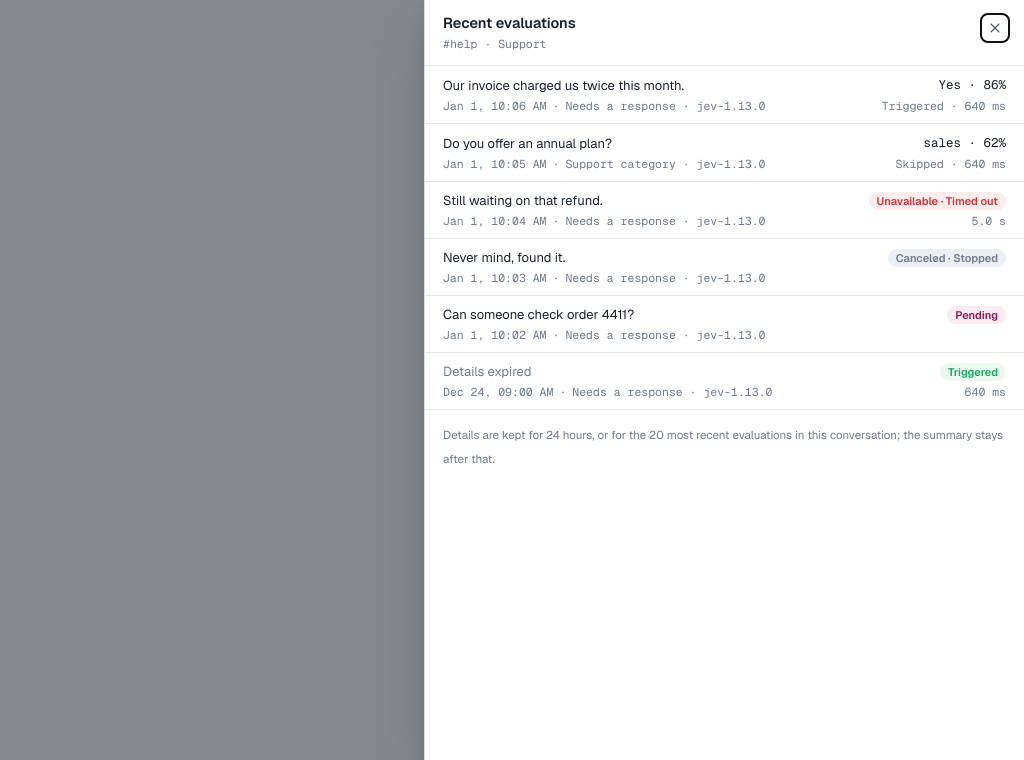
Test case: DecisionEvaluationsDrawer › switches the model result and instructions to the chain step picked above it
The image size is (1024, 760).
Click the button that starts with "Our invoice charged us twice this month.": (564, 86) [425,66,1023,123]
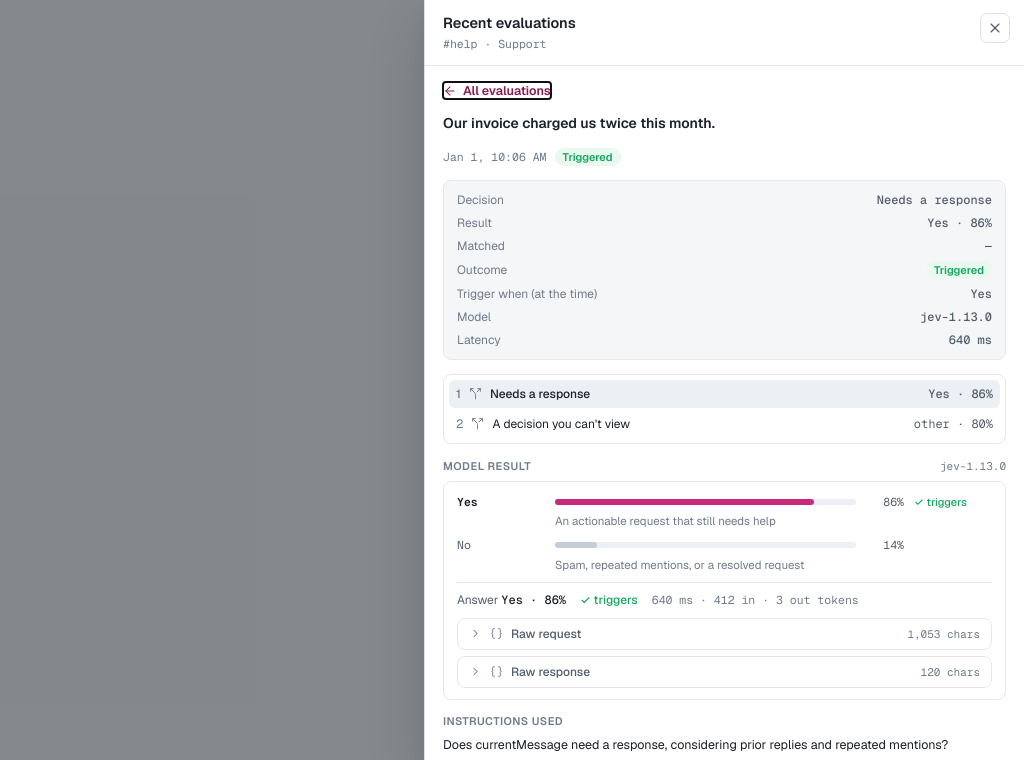
Now the button "2 A decision you can't view other · 80%" is shown
Now the element with test id "model-result" shows "86%", box [883,494,904,509]
Click the button "2 A decision you can't view other · 80%": (561, 424) [449,410,1000,438]
(page scrolled)
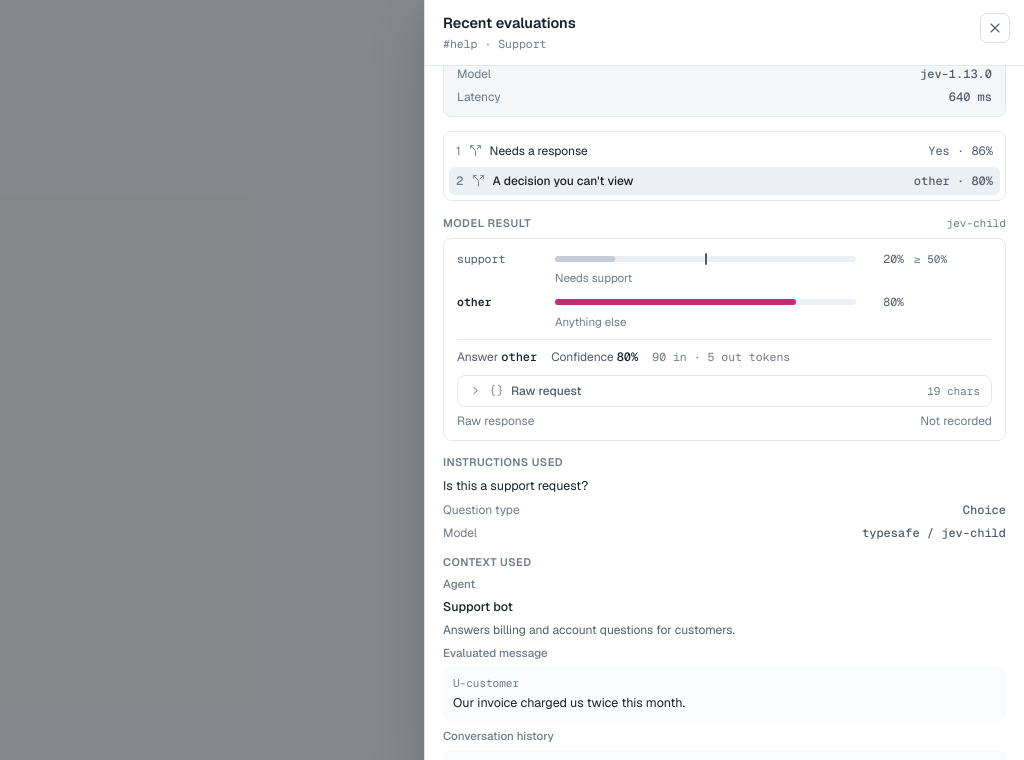
Now the list item "support 20% ≥ 50% Needs support" is shown, box [457,250,992,285]
Now the text with test id "model-result" no longer shows "✓ triggers"
Now the element with test id "model-result" shows "90 in · 5 out tokens", box [652,349,790,364]
